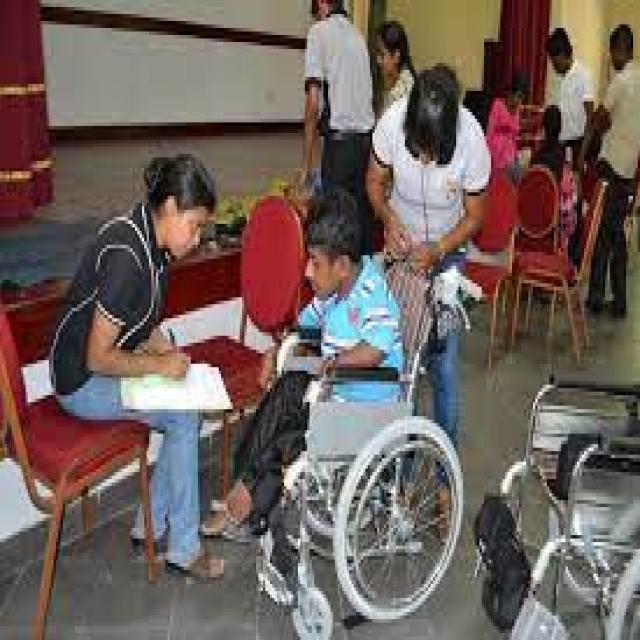wheelchairs: (231, 259, 470, 640), (462, 333, 639, 640)
